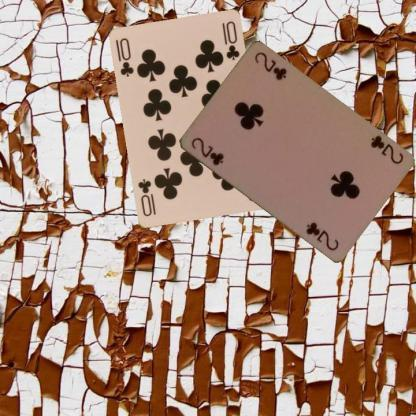10c: (117, 36, 135, 78)
2c: (188, 134, 225, 167), (368, 133, 404, 166)
